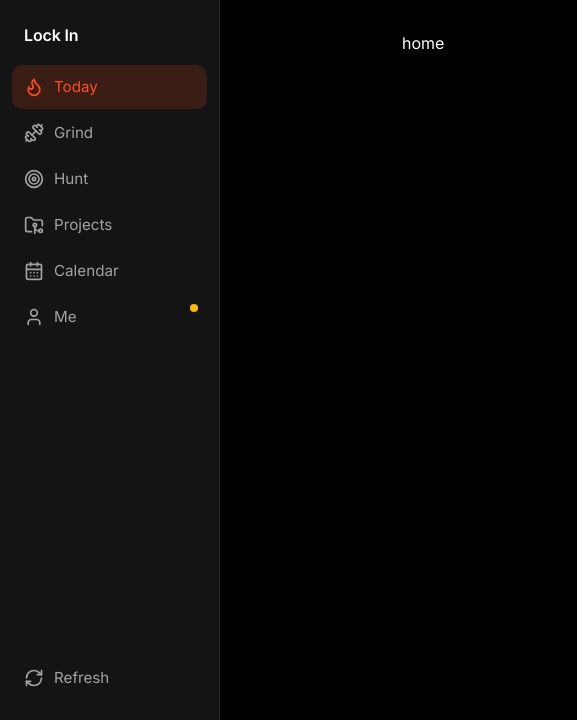
Test: AppShell › a failed manual Refresh shows one short line (I3)
Expected: the text "Couldn't sync LeetCode." is not shown
Step 1. Click the button "Refresh" → (110, 678), box [12,656,207,700]
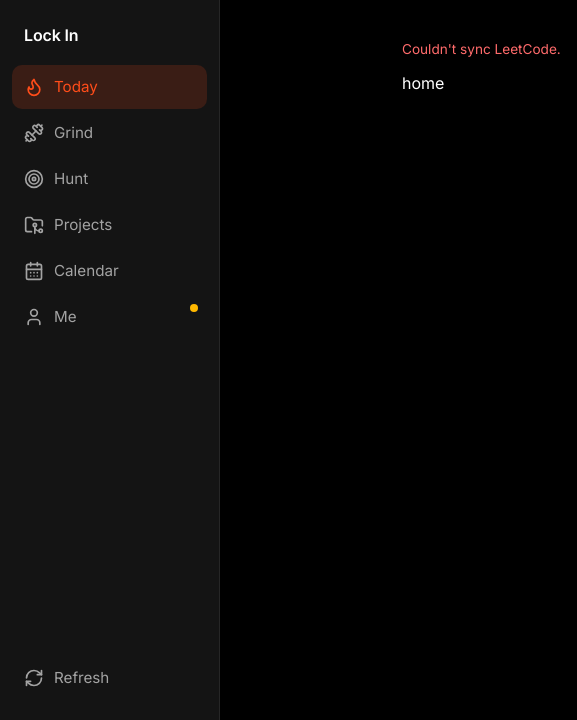
Result: the text "Couldn't sync LeetCode." is shown at [402,41,561,57]
